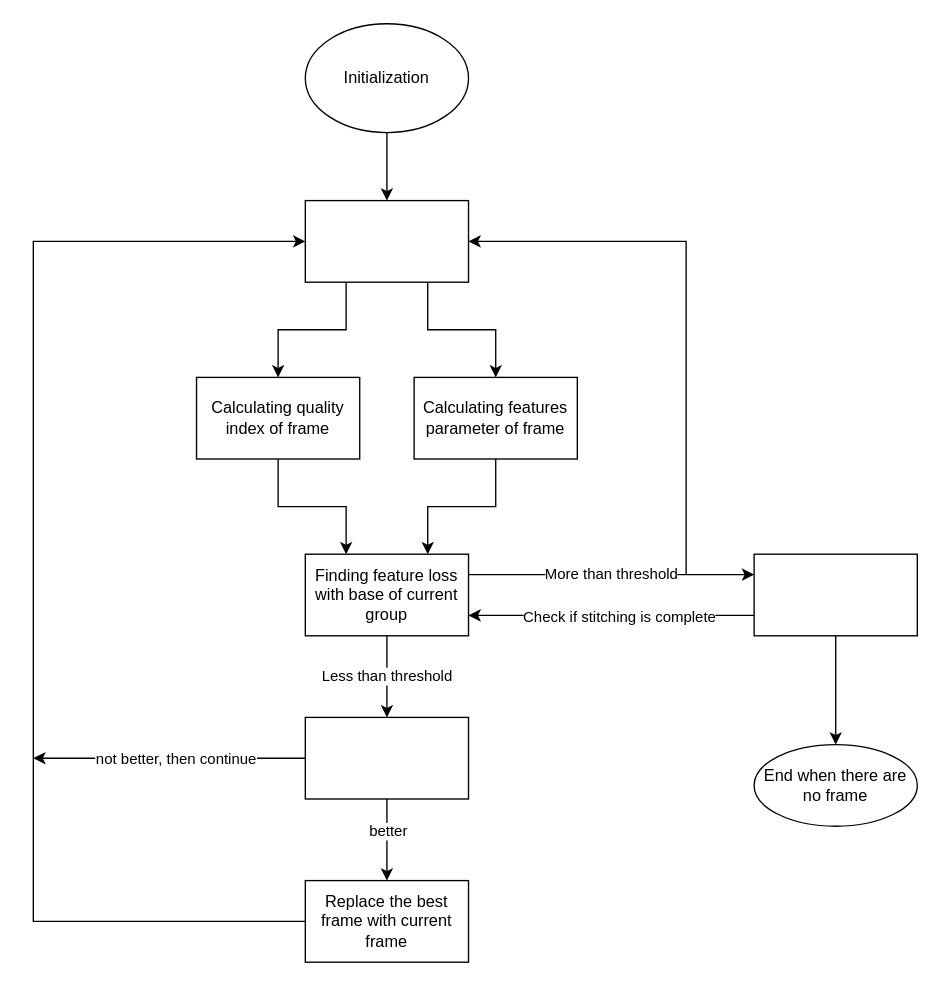
Some shapes in this 941 by 986 pixel diagram are drawn without their labels. Here are the shapes that lost their labels. From the top down, the box of each, then its label:
(304, 199, 469, 282): Reading next frame
(753, 553, 917, 636): Stitch the best frame of this group with panorama
(304, 716, 469, 799): Compare quality of frame with best frame of group
